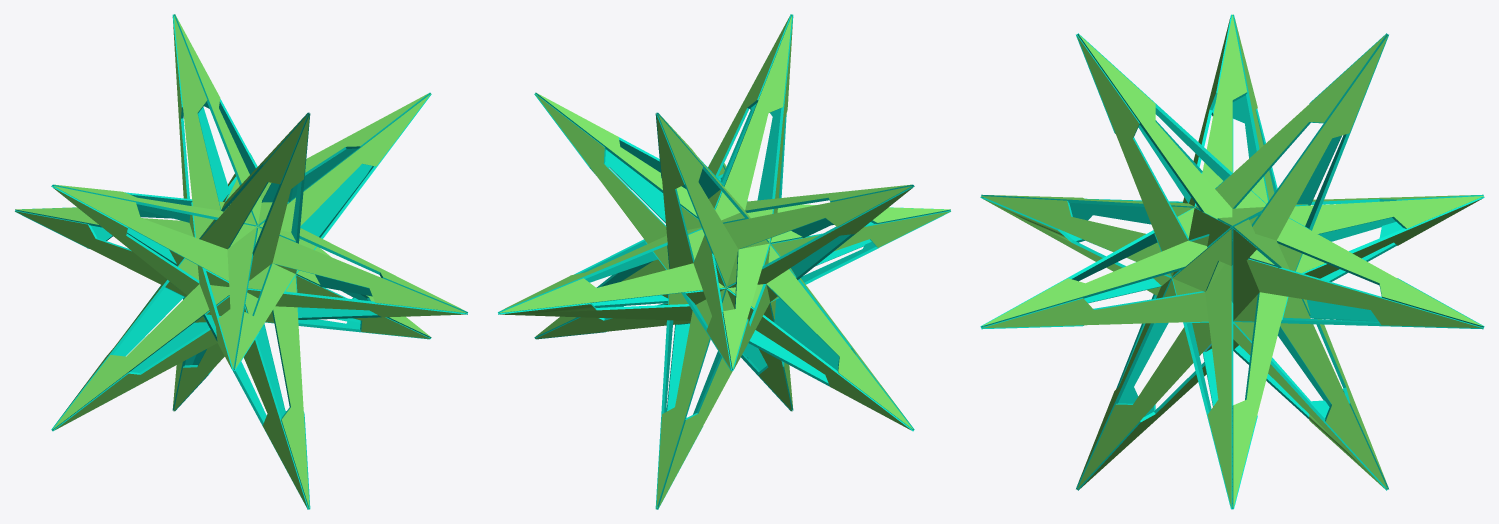
File: GreatTriambicIcosahedronS.glb
The picture shows the model from 3 angles, left to right: view 1: azimuth 30°, elevation 25°; view 2: azimuth 150°, elevation 25°; view 3: azimuth 270°, elevation 25°; orthographic projection. The views are drawn at different scales.
Visible parts, largest first — view 1: Mesh_0006_3, Mesh_0006; view 2: Mesh_0006_3, Mesh_0006; view 3: Mesh_0006_3, Mesh_0006.
Boxes of the visible parts, x1,y1,x2,y2 form: Mesh_0006_3: (15,14,466,508); Mesh_0006: (15,14,467,509); Mesh_0006_3: (499,14,950,508); Mesh_0006: (498,14,950,509); Mesh_0006_3: (981,14,1483,507); Mesh_0006: (980,14,1484,509).
Size of the model in its own units: 7.87 by 7.87 by 7.87.
